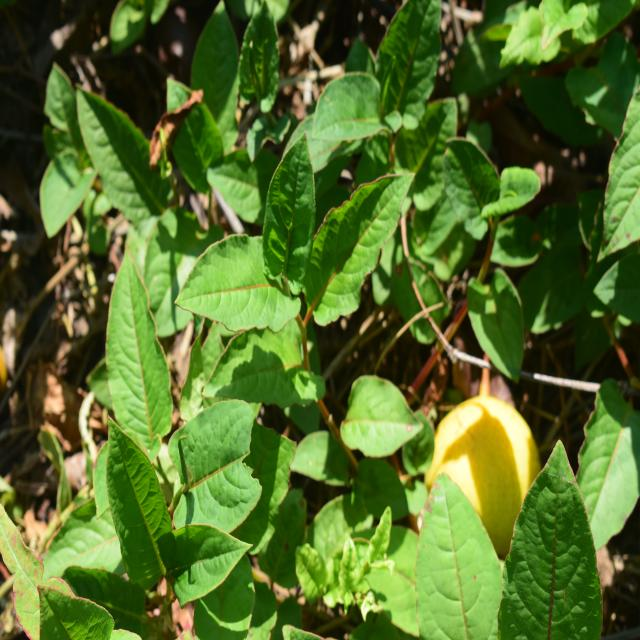Chinese_knotweed: (52, 252, 286, 613), (200, 136, 422, 447)
